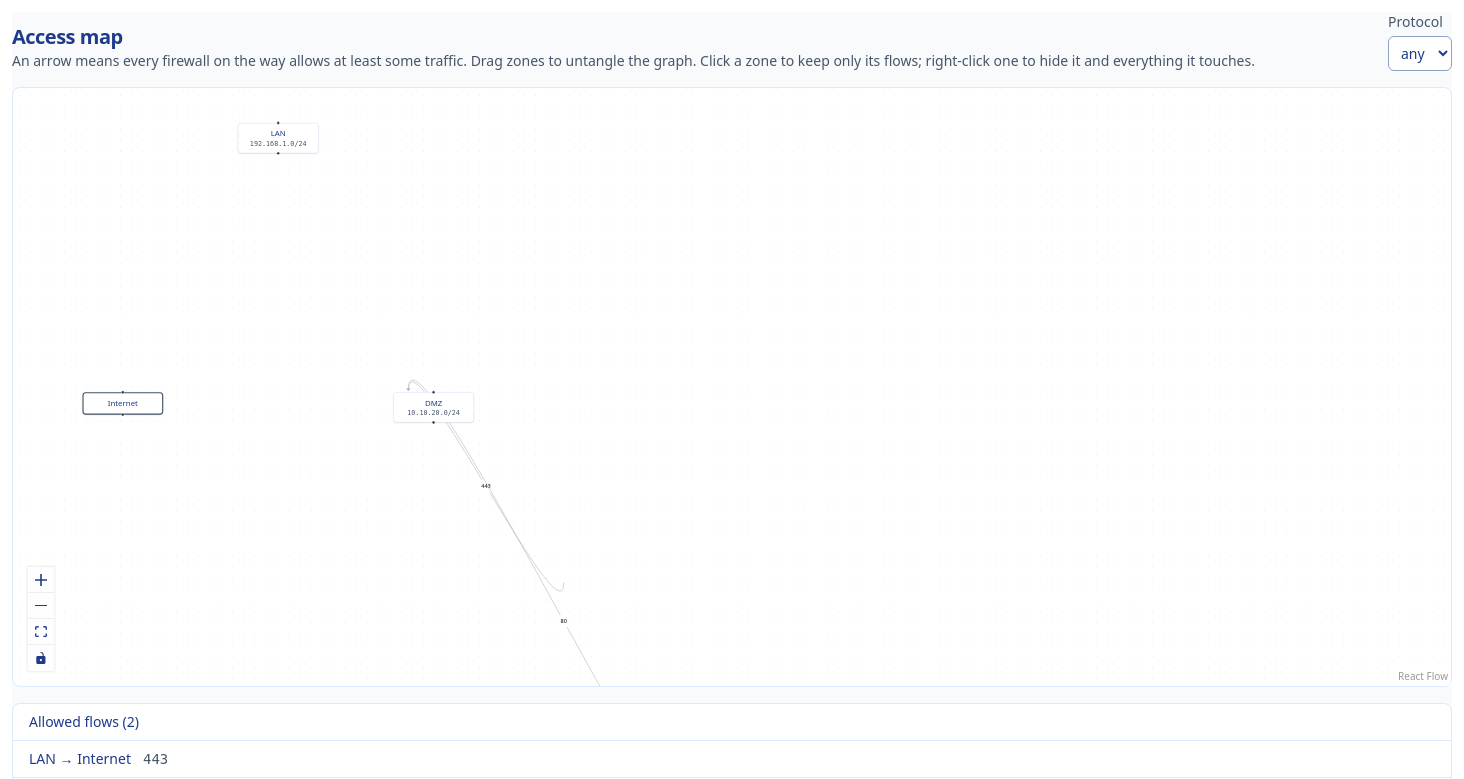
Test: AccessMapPage › focusing a zone › hides zones that the focused zone does not reach
The width and height of the screenshot is (1464, 779).
Expected: the text "LAN → Internet" is shown, left=29, top=749, right=131, bottom=769
Click the text "LAN". click: [278, 133]
box: left=271, top=128, right=286, bottom=139
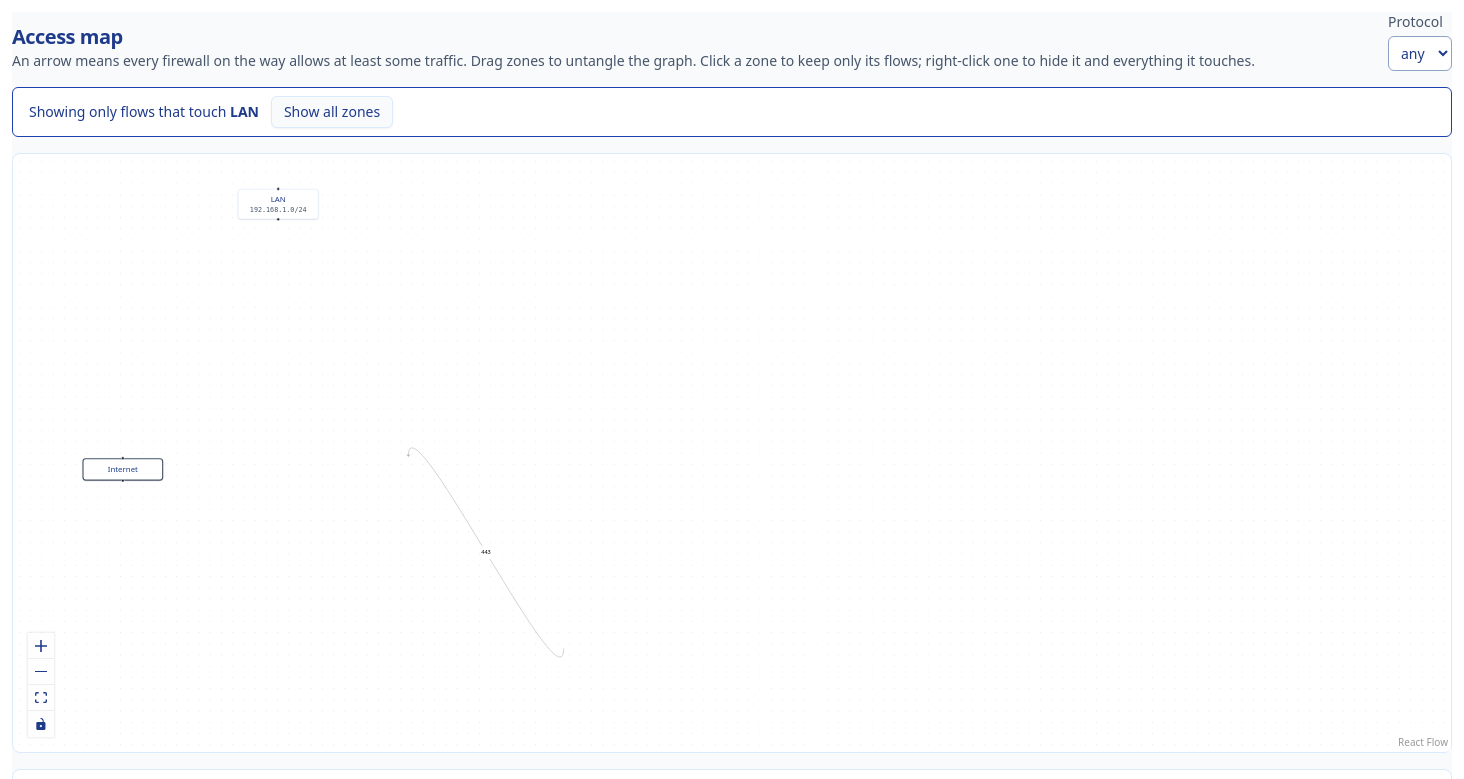
Expected: the text "Internet" is shown, left=108, top=464, right=138, bottom=474
Now the text "DMZ" is gone
